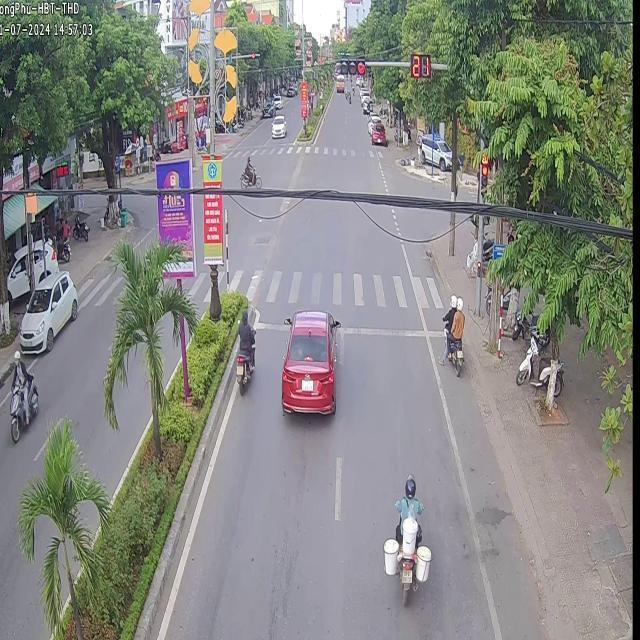car: (280, 310, 339, 416)
motobike: (394, 475, 423, 605), (437, 292, 464, 376), (235, 309, 255, 394)
red_light: (339, 55, 364, 74), (480, 150, 487, 192)
stop_line: (336, 324, 442, 334), (256, 320, 289, 330)
